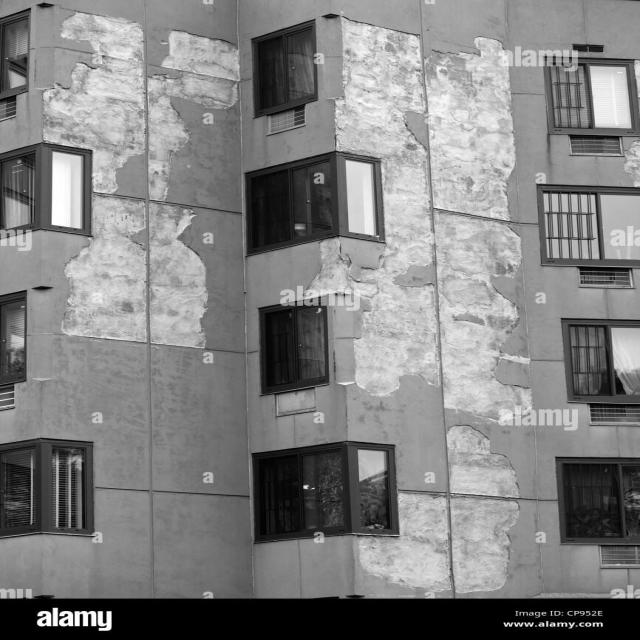peeling paint: (288, 11, 537, 594), (30, 0, 248, 372)
